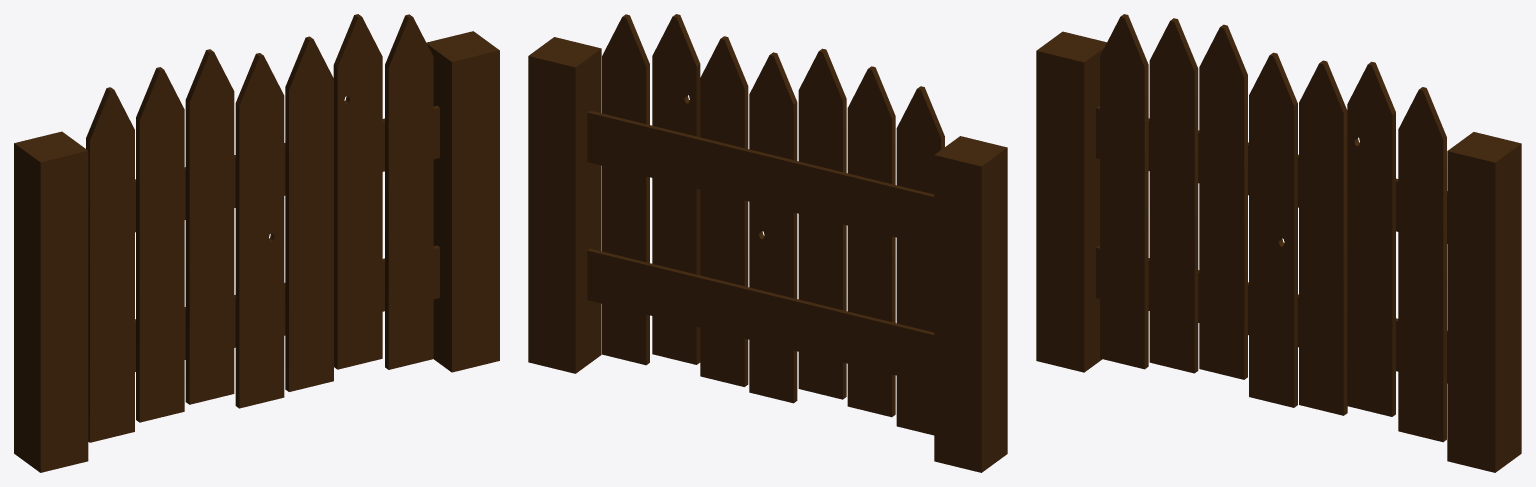
Rendered from Fence_02.fbx.
3 views of the same model, side by side, from view 1: azimuth 30°, elevation 25°; view 2: azimuth 150°, elevation 25°; view 3: azimuth 330°, elevation 25° (orthographic).
Parts seen in each view (by area): view 1: Box064; view 2: Box064; view 3: Box064.
Boxes of the visible parts, x1,y1,x2,y2 form: Box064: (14, 14, 499, 472); Box064: (528, 14, 1007, 472); Box064: (1036, 14, 1521, 472).
Bounding box in the file's own units: 124 × 95.99 × 12.35.
